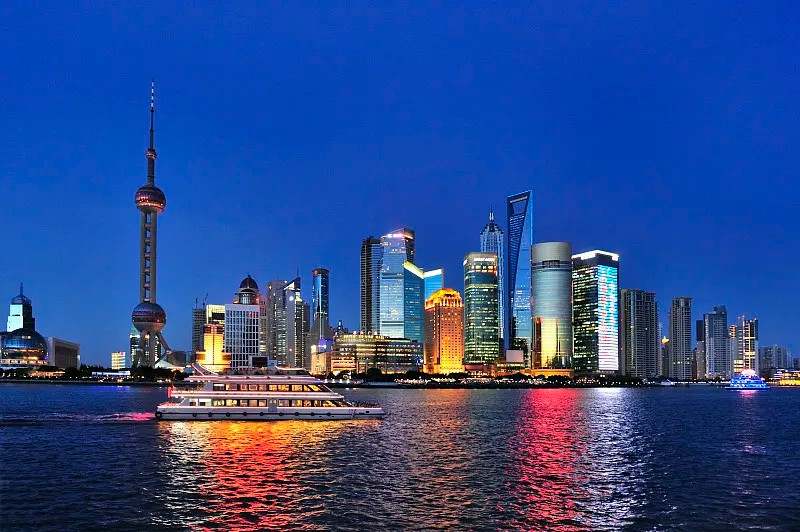Oriental: (130, 77, 179, 367)
